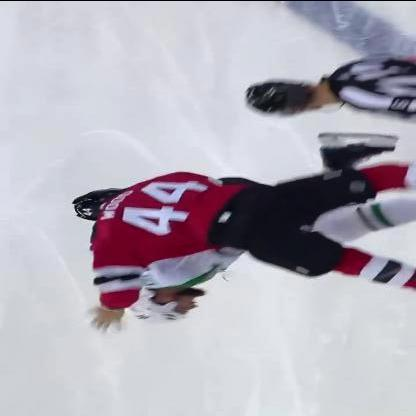voilence: (73, 131, 416, 331)
